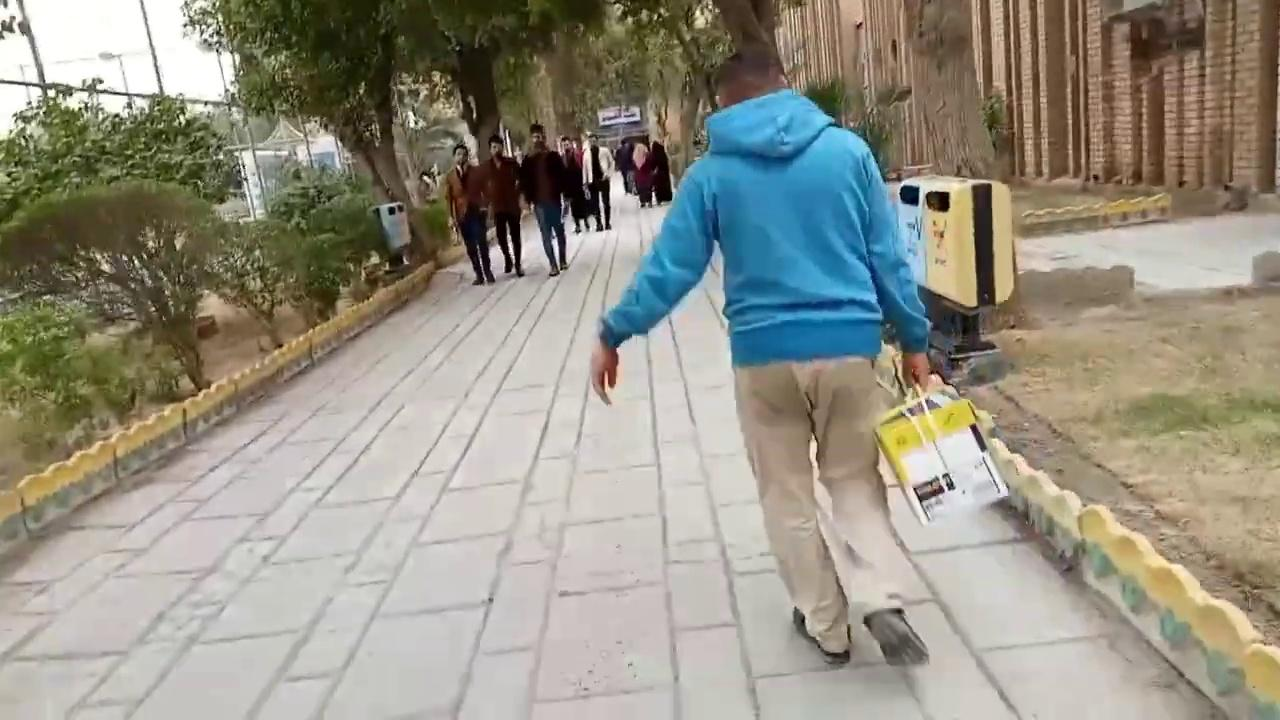person: (589, 40, 936, 666), (465, 133, 526, 277), (522, 111, 573, 281), (445, 143, 495, 285), (620, 129, 674, 201)
tree: (0, 76, 389, 466), (190, 0, 623, 269), (604, 0, 803, 191)
